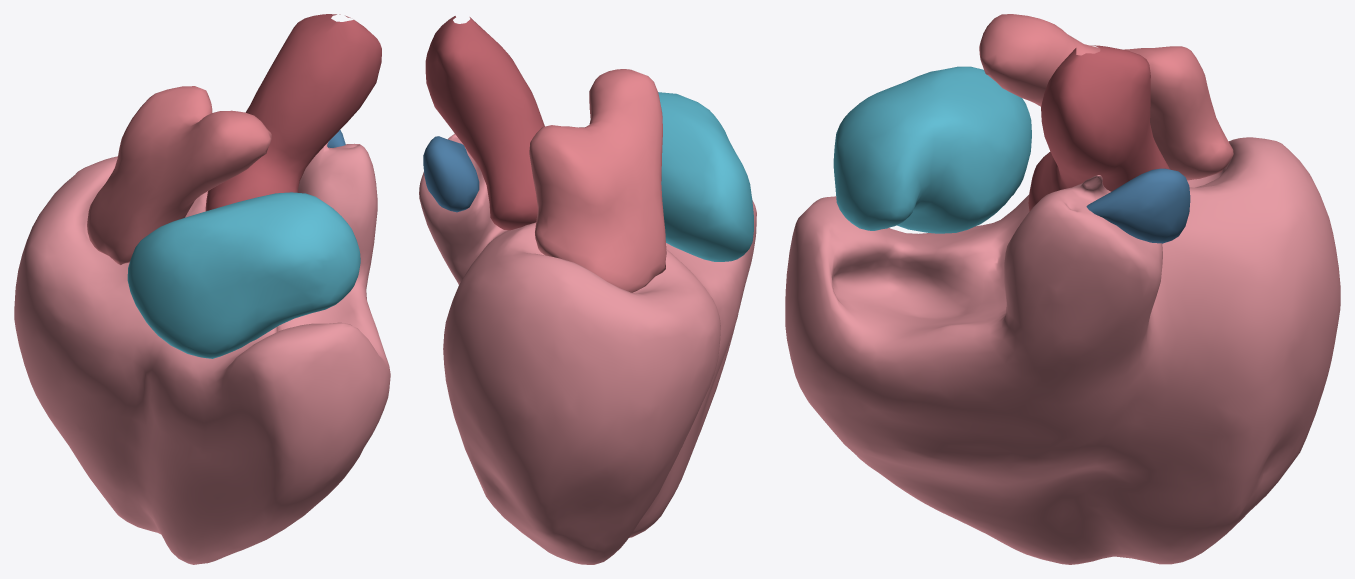
The model's file is frame_42.glb.
3 renders of one model, left to right at view 1: azimuth 30°, elevation 25°; view 2: azimuth 150°, elevation 25°; view 3: azimuth 270°, elevation 25°, orthographic. The views are drawn at different scales.
Parts seen in each view (by area): view 1: Renderer Node; view 2: Renderer Node; view 3: Renderer Node.
Part boxes in pixels (<box>): Renderer Node: <box>14,14,390,564</box>; Renderer Node: <box>419,16,756,564</box>; Renderer Node: <box>785,14,1340,564</box>.
Bounding box in the file's own units: 107 × 165 × 136.
